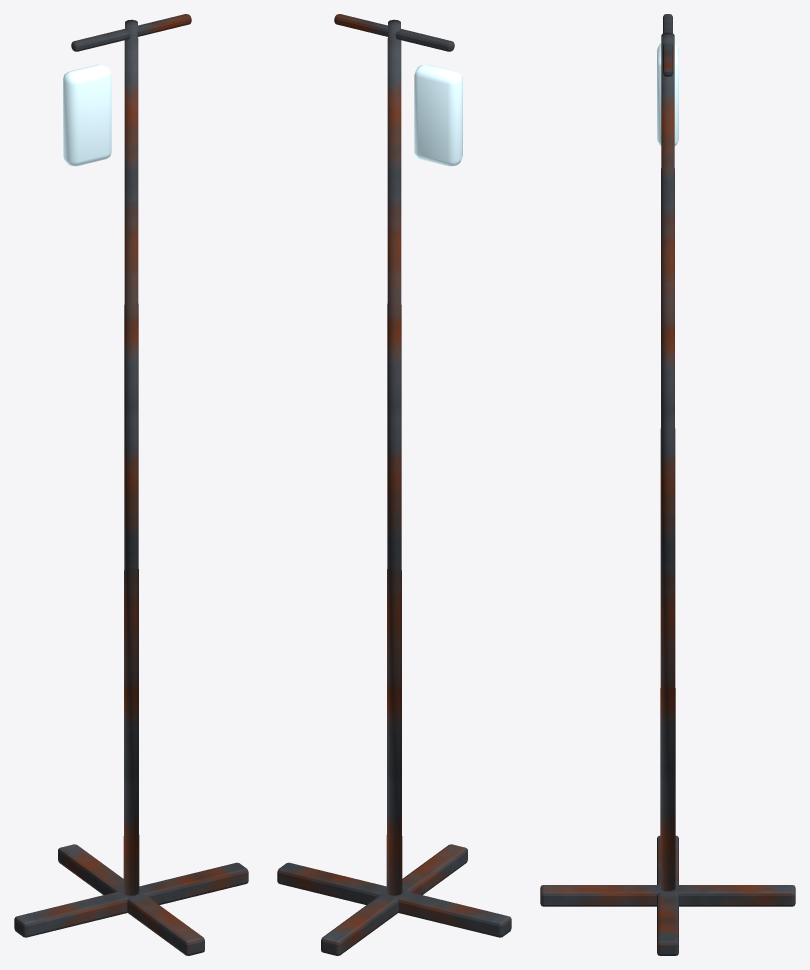
The model's file is prop_iv_drip.glb.
The picture shows the model from 3 angles, left to right: view 1: azimuth 30°, elevation 25°; view 2: azimuth 150°, elevation 25°; view 3: azimuth 270°, elevation 25°; orthographic projection.
Visible parts, largest first — view 1: Pole, CrossBase1, FluidBag, CrossBase2, TopHook; view 2: Pole, CrossBase1, FluidBag, CrossBase2, TopHook; view 3: Pole, CrossBase2, CrossBase1, FluidBag.
Part boxes in pixels (box(x1,y1,x2,y2)): Pole: box(123, 19, 139, 895); CrossBase1: box(14, 862, 248, 937); FluidBag: box(63, 64, 111, 166); CrossBase2: box(58, 844, 204, 955); TopHook: box(71, 14, 191, 51); Pole: box(386, 19, 402, 895); CrossBase1: box(277, 862, 511, 937); FluidBag: box(414, 64, 462, 166); CrossBase2: box(321, 844, 467, 955); TopHook: box(334, 14, 454, 51); Pole: box(660, 32, 675, 891); CrossBase2: box(540, 885, 795, 906); CrossBase1: box(657, 835, 678, 955); FluidBag: box(657, 43, 678, 145).
Size of the model in its own units: 0.46 by 1.73 by 0.46.
2 materials, 1 textured.
